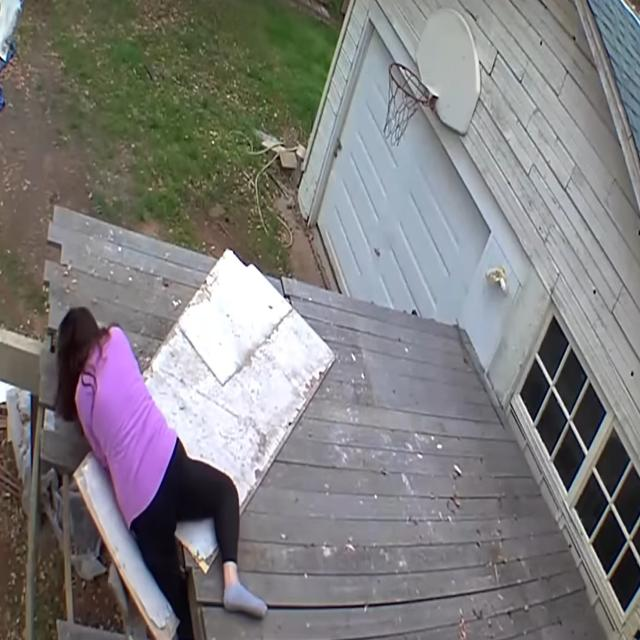fallen: (57, 307, 267, 639)
